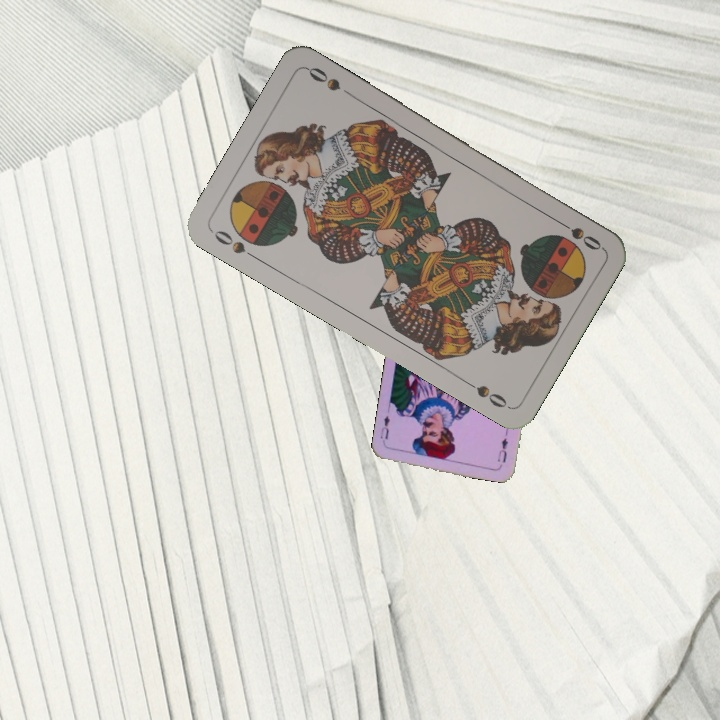EU: (494, 426, 510, 465)
SO: (551, 215, 604, 253), (207, 226, 261, 263)
